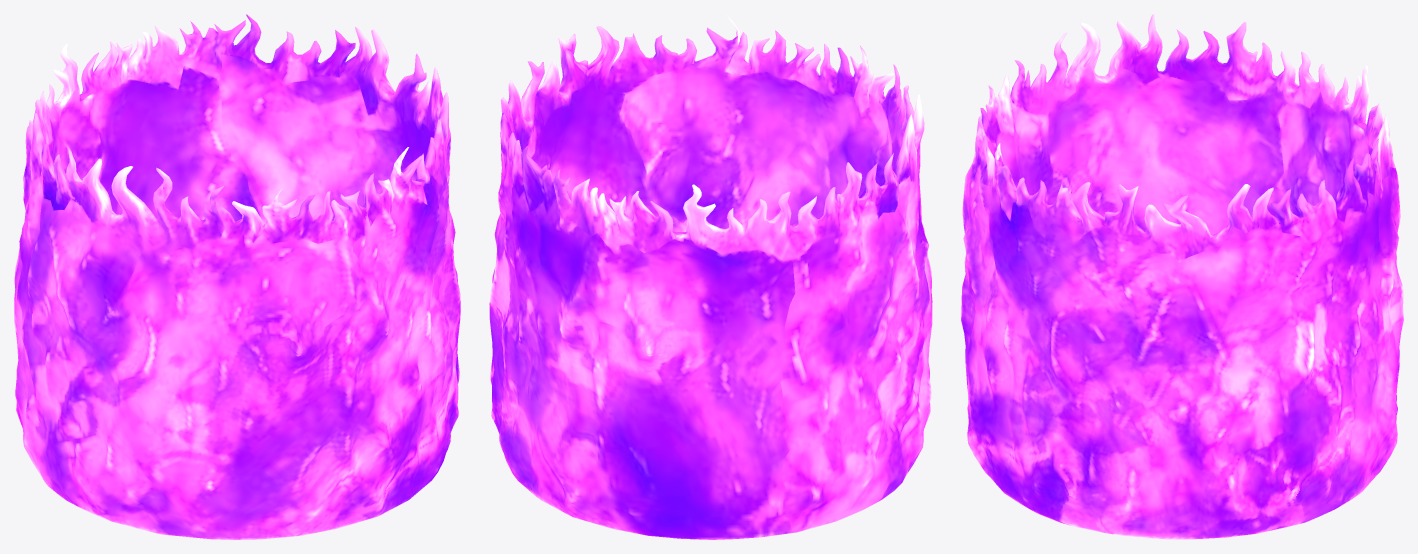
File: MZ4250 - Wall of Fire_ring_purple.glb
The picture shows the model from 3 angles, left to right: view 1: azimuth 30°, elevation 25°; view 2: azimuth 150°, elevation 25°; view 3: azimuth 270°, elevation 25°; orthographic projection.
Parts seen in each view (by area): view 1: Cylinder.001; view 2: Cylinder.001; view 3: Cylinder.001.
Boxes of the visible parts, <box> form: Cylinder.001: <box>14,14,460,539</box>; Cylinder.001: <box>489,15,932,539</box>; Cylinder.001: <box>961,14,1403,539</box>.
Bounding box in the file's own units: 2.97 × 2.67 × 3.
1 material, 1 textured.
